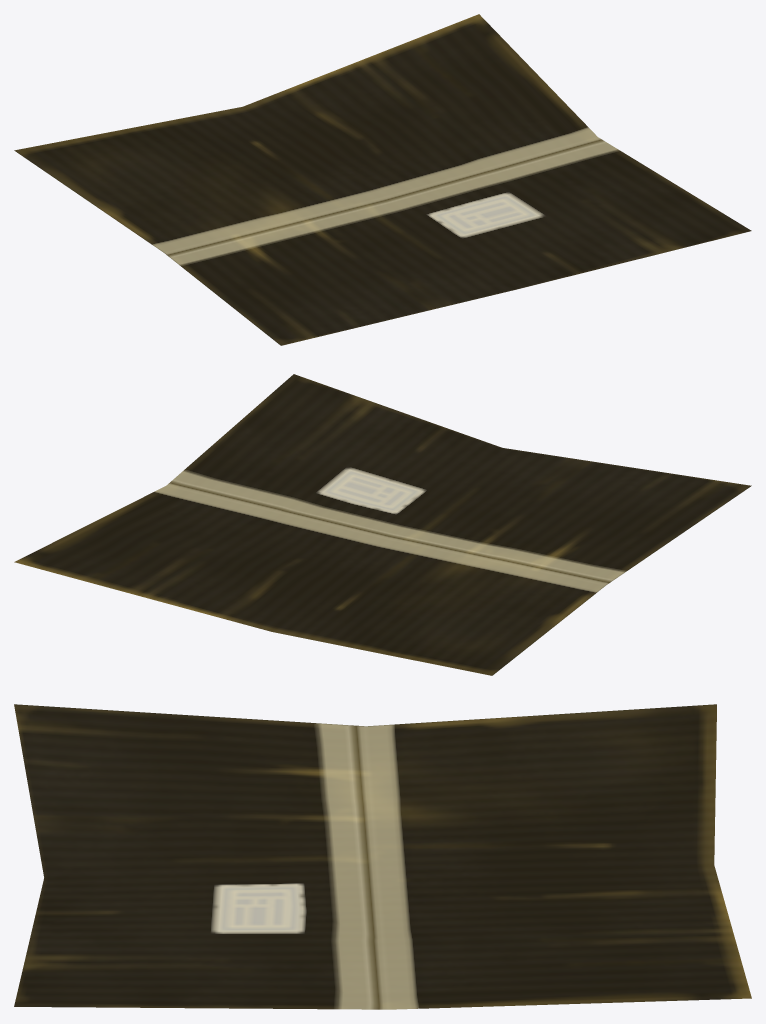
File: p_mesh_fruitbox_part01.fbx
The picture shows the model from 3 angles, top to bottom: view 1: azimuth 30°, elevation 25°; view 2: azimuth 150°, elevation 25°; view 3: azimuth 270°, elevation 25°; orthographic projection. The views are drawn at different scales.
Parts seen in each view (by area): view 1: p_mesh_containers_fruitbox_part01; view 2: p_mesh_containers_fruitbox_part01; view 3: p_mesh_containers_fruitbox_part01.
Part boxes in pixels (x1,y1,x2,y2): p_mesh_containers_fruitbox_part01: (14,14,751,345); p_mesh_containers_fruitbox_part01: (14,374,751,675); p_mesh_containers_fruitbox_part01: (14,704,751,1009).
Bounding box in the file's own units: 3.94 × 0.1754 × 4.
